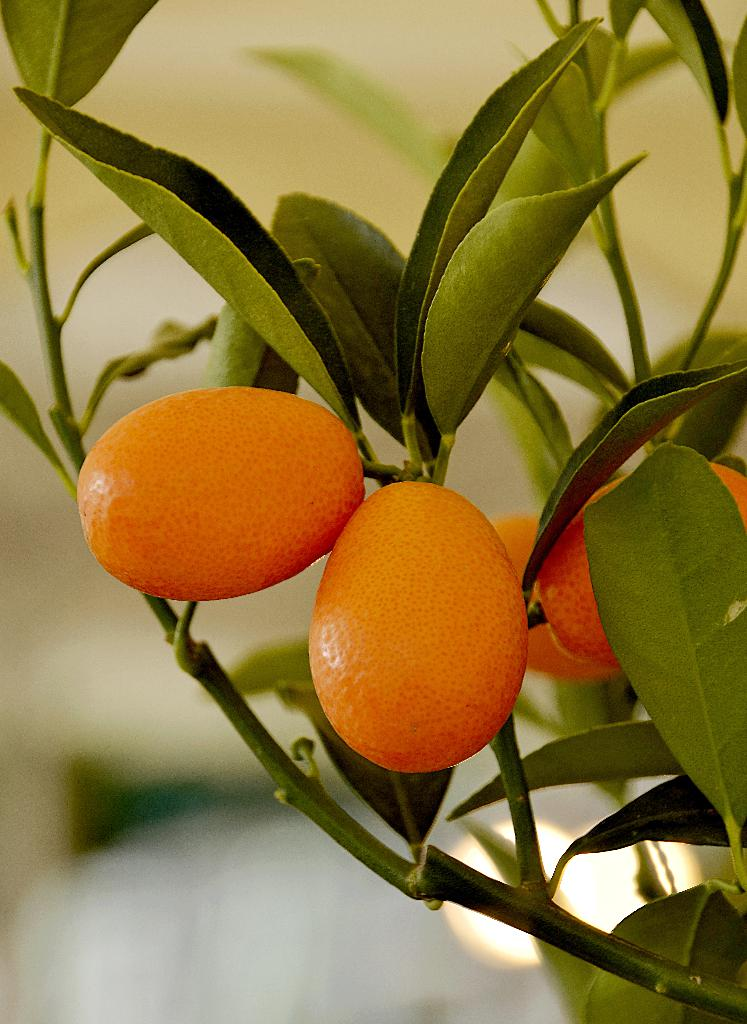Ripe: (73, 379, 361, 600), (296, 500, 518, 769), (539, 463, 746, 641)
